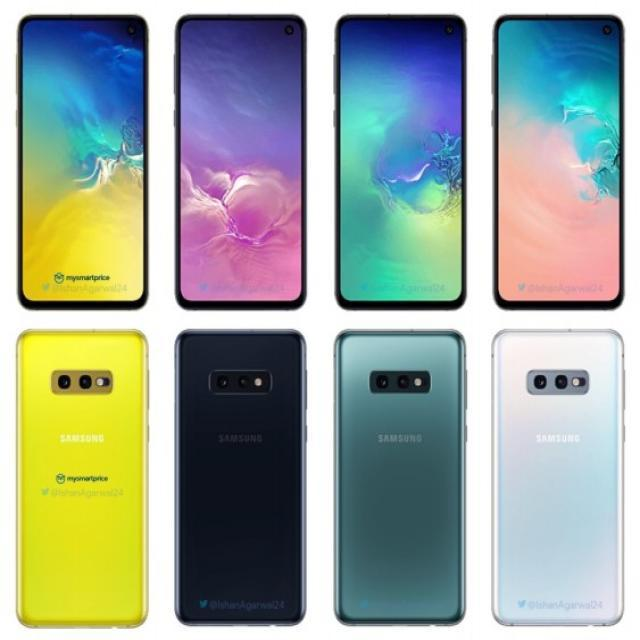phone: (491, 329, 626, 627), (173, 328, 307, 628), (332, 329, 466, 626), (16, 329, 146, 629)
